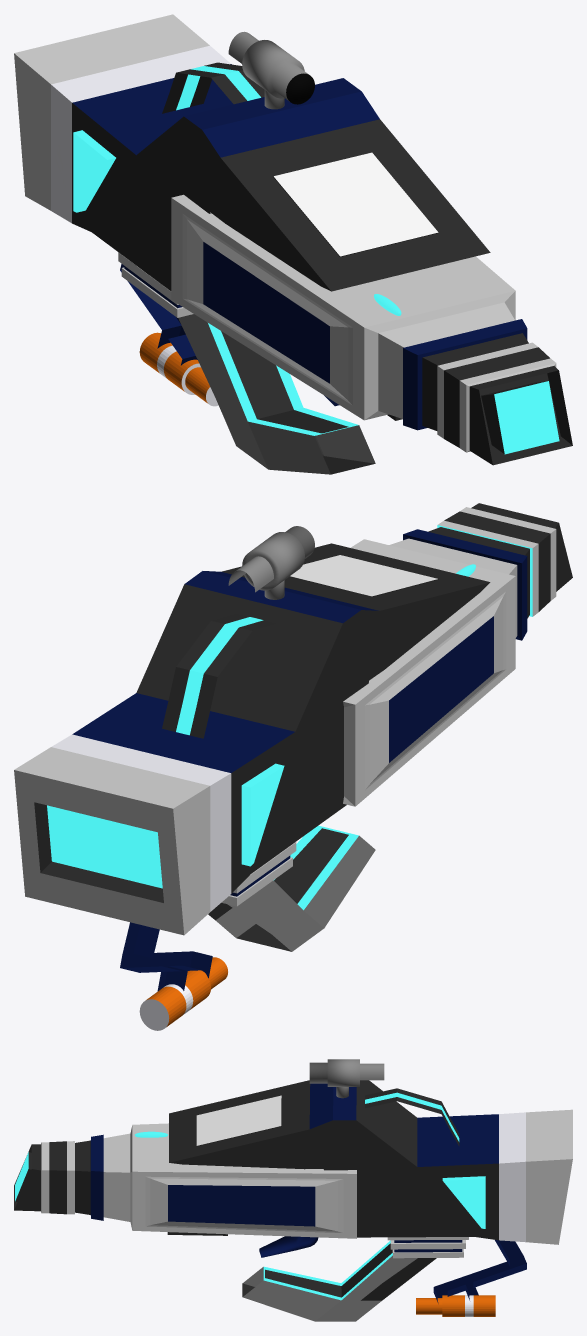
Rendered from Gun1.gltf.
The picture shows the model from 3 angles, top to bottom: view 1: azimuth 30°, elevation 25°; view 2: azimuth 150°, elevation 25°; view 3: azimuth 270°, elevation 25°; orthographic projection. The views are drawn at different scales.
Parts seen in each view (by area): view 1: chasis, nozzle, handle, lens, handle 2, bullet, mech arm; view 2: chasis, nozzle, handle, handle 2, lens, mech arm, bullet; view 3: chasis, nozzle, handle, lens, mech arm, bullet, handle 2, trigger.
Part boxes in pixels (x1=…): chasis: x1=14, y1=14, x2=490, y2=317; nozzle: x1=171, y1=194, x2=572, y2=465; handle: x1=178, y1=314, x2=375, y2=474; lens: x1=228, y1=31, x2=314, y2=109; handle 2: x1=162, y1=62, x2=264, y2=113; bullet: x1=139, y1=332, x2=218, y2=406; mech arm: x1=120, y1=264, x2=197, y2=365; chasis: x1=14, y1=543, x2=490, y2=935; nozzle: x1=343, y1=503, x2=572, y2=806; handle: x1=208, y1=825, x2=375, y2=951; handle 2: x1=162, y1=613, x2=276, y2=738; lens: x1=228, y1=526, x2=314, y2=599; mech arm: x1=120, y1=922, x2=212, y2=991; bullet: x1=139, y1=957, x2=227, y2=1030; chasis: x1=169, y1=1080, x2=572, y2=1258; nozzle: x1=14, y1=1123, x2=356, y2=1238; handle: x1=242, y1=1240, x2=436, y2=1321; lens: x1=309, y1=1059, x2=384, y2=1098; mech arm: x1=433, y1=1240, x2=526, y2=1303; bullet: x1=416, y1=1295, x2=495, y2=1316; handle 2: x1=365, y1=1088, x2=459, y2=1146; trigger: x1=259, y1=1236, x2=318, y2=1257.
Size of the model in its own units: 0.8171 by 1.69 by 3.35.
